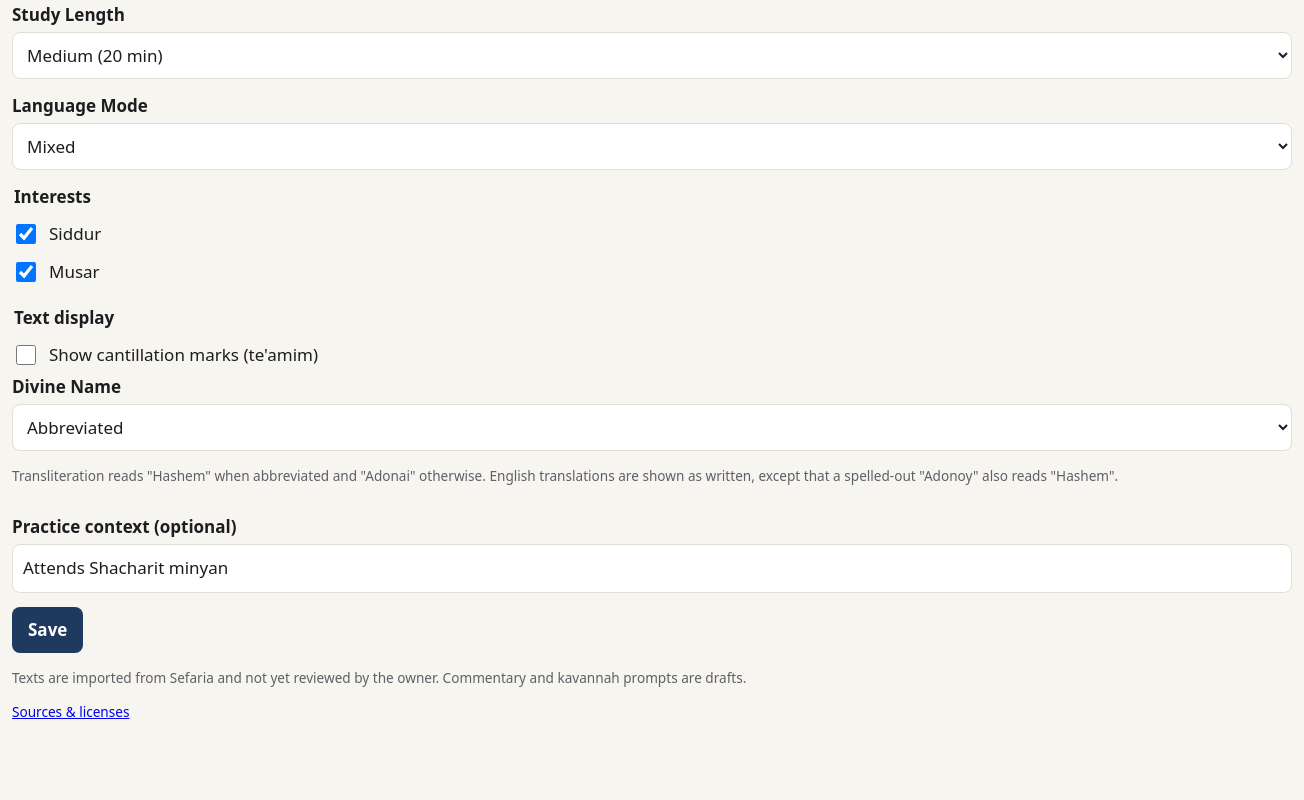
it: SettingsScreen › shows an error when saving fails
(page scrolled)
Click the button "Save" at (48, 630), box [12, 607, 83, 653]
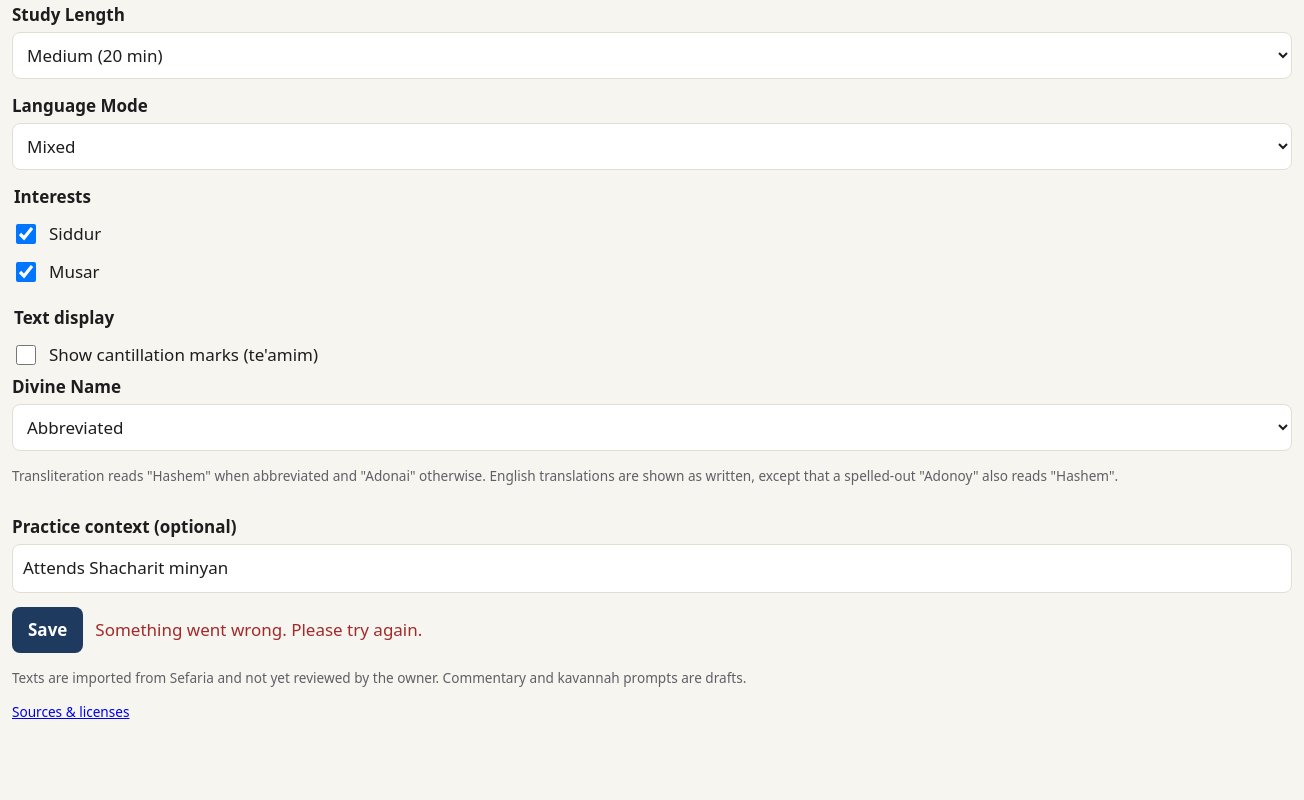
Result: the message reads "Something went wrong. Please try again." at [95, 618, 422, 641]
